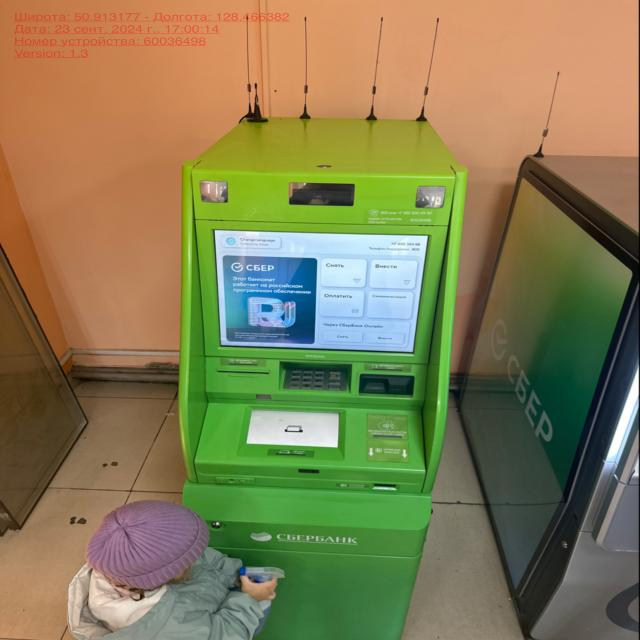bank: (182, 116, 461, 640), (468, 150, 640, 640)
